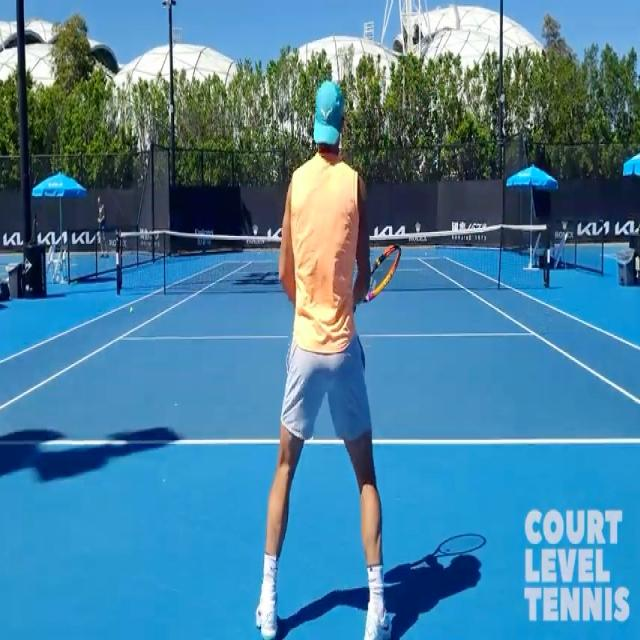ready-position: (251, 80, 404, 638)
